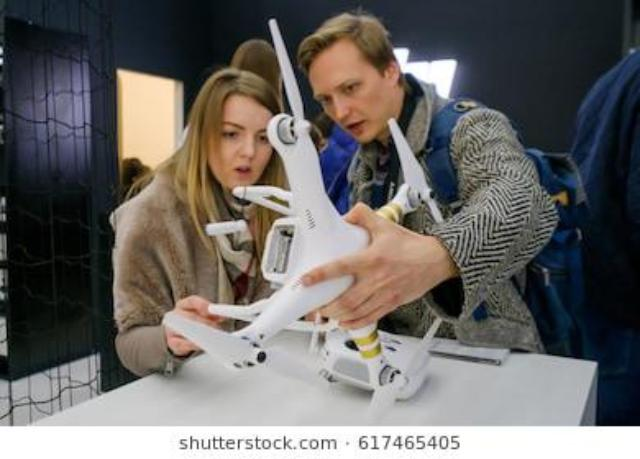drone: (148, 1, 460, 423)
